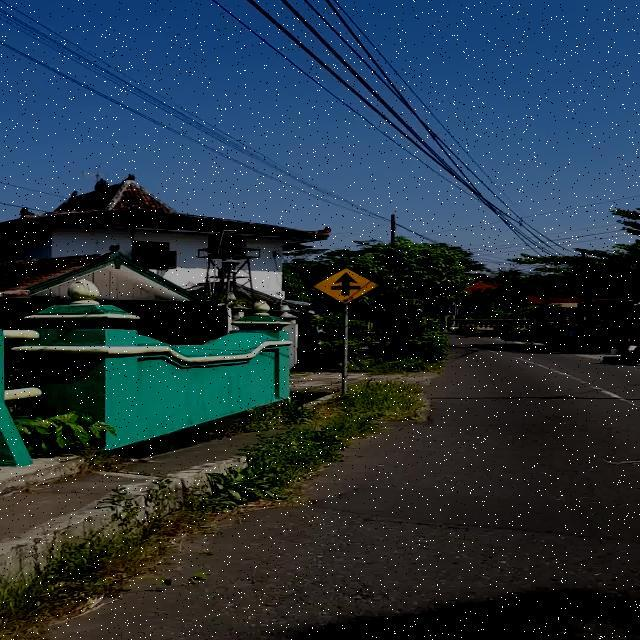Persimpangan 3 Prioritas: (312, 266, 380, 304)
